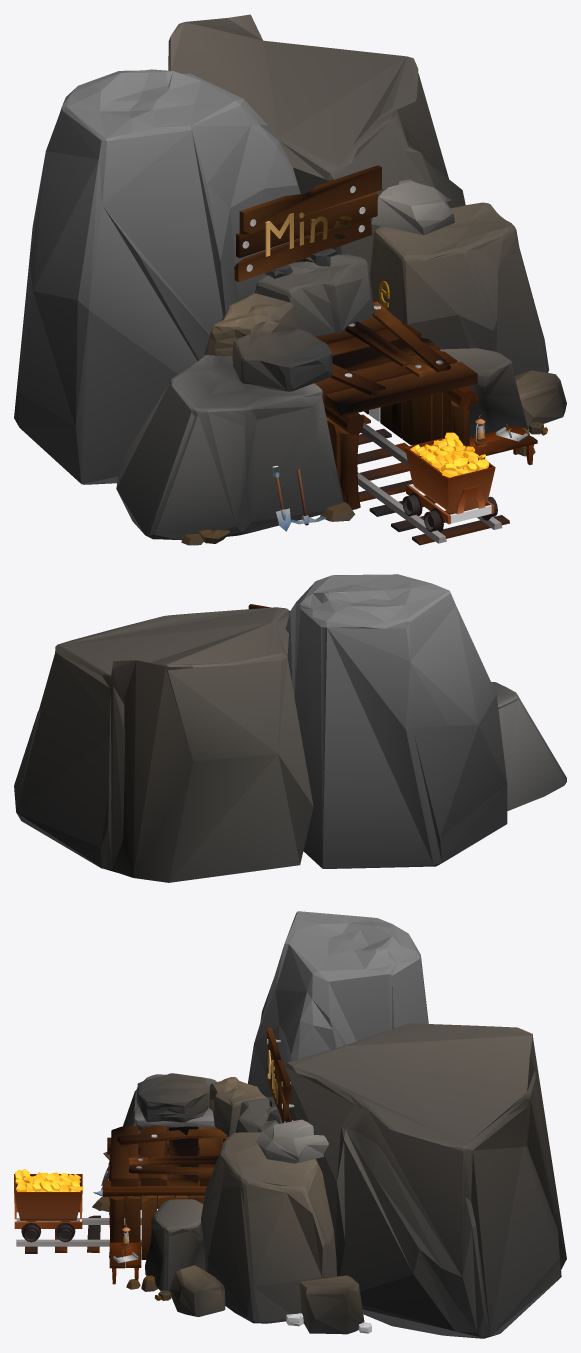
Rendered from Mine.fbx.
3 views of the same model, one above another, from view 1: azimuth 30°, elevation 25°; view 2: azimuth 150°, elevation 25°; view 3: azimuth 270°, elevation 25° (orthographic). The views are drawn at different scales.
Parts seen in each view (by area): view 1: Cylinder.010, Cylinder.013, Cylinder.009, Cylinder.011, Cylinder.024, Cylinder.016, Cylinder.012, Cube.085, Cube.005, Cylinder.028, Cylinder.025, Cube.035 (+16 smaller); view 2: Cylinder.009, Cylinder.010, Cylinder.013; view 3: Cylinder.009, Cylinder.010, Cylinder.011, Cylinder.012, Cylinder.021, Cylinder.016, Cylinder.028, Cylinder.015, Cube.035, Cylinder.025, Cube.005, Cylinder.013 (+14 smaller).
Boxes of the visible parts, <box> form: Cylinder.010: <box>14,69,307,484</box>; Cylinder.013: <box>116,355,343,540</box>; Cylinder.009: <box>168,14,465,274</box>; Cylinder.011: <box>369,202,549,375</box>; Cylinder.024: <box>255,254,373,336</box>; Cylinder.016: <box>232,329,332,391</box>; Cylinder.012: <box>440,348,528,436</box>; Cube.085: <box>239,165,381,234</box>; Cube.005: <box>325,361,477,416</box>; Cylinder.028: <box>371,179,454,235</box>; Cylinder.025: <box>204,293,300,356</box>; Cube.035: <box>405,437,495,513</box>; Cylinder.009: <box>14,607,313,882</box>; Cylinder.010: <box>285,574,507,868</box>; Cylinder.013: <box>491,682,566,810</box>; Cylinder.009: <box>284,1023,566,1338</box>; Cylinder.010: <box>248,911,428,1097</box>; Cylinder.011: <box>201,1132,336,1323</box>; Cylinder.012: <box>145,1199,205,1291</box>; Cylinder.021: <box>299,1275,364,1334</box>; Cylinder.016: <box>136,1073,208,1122</box>; Cylinder.028: <box>255,1119,328,1163</box>; Cylinder.015: <box>169,1265,225,1316</box>; Cube.035: <box>14,1174,82,1220</box>; Cylinder.025: <box>208,1077,266,1136</box>; Cube.005: <box>111,1126,138,1186</box>; Cylinder.013: <box>108,1074,216,1209</box>.
Bounding box in the file's own units: 695 × 419 × 815.
